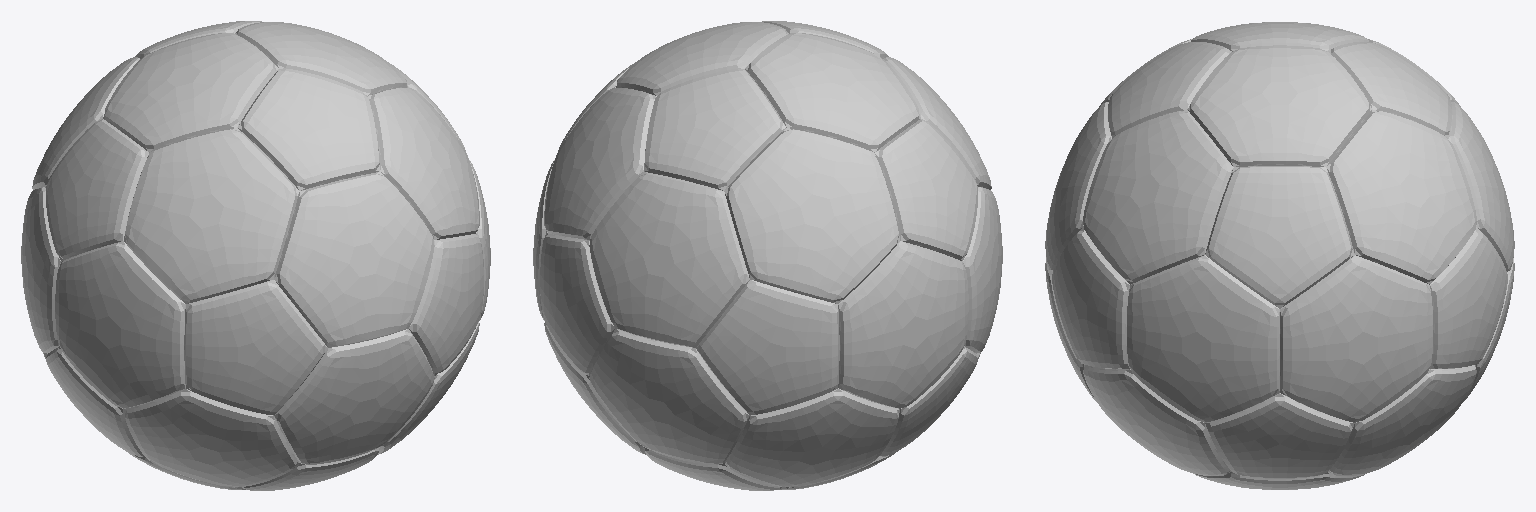
File: soccerball.obj
3 views of the same model, side by side, from view 1: azimuth 30°, elevation 25°; view 2: azimuth 150°, elevation 25°; view 3: azimuth 270°, elevation 25° (orthographic).
Parts seen in each view (by area): view 1: Hedra01; view 2: Hedra01; view 3: Hedra01.
Part boxes in pixels (bbox=[...]): Hedra01: bbox=[21, 21, 490, 490]; Hedra01: bbox=[533, 21, 1002, 490]; Hedra01: bbox=[1045, 22, 1514, 489].
Bounding box in the file's own units: 5.58 × 5.58 × 5.58.